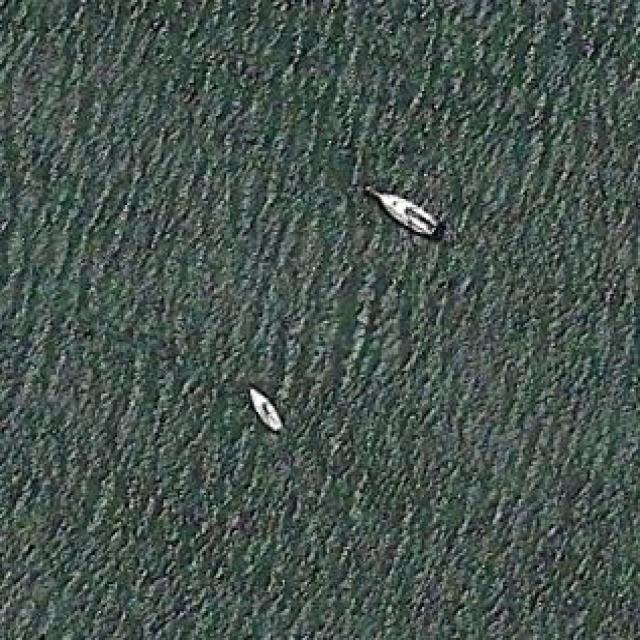ship: (362, 184, 440, 236), (244, 381, 283, 433)
